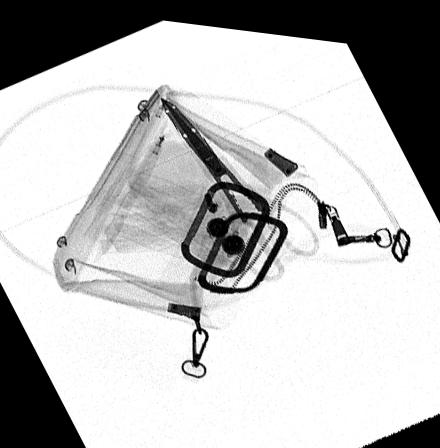Scissors: (153, 88, 321, 274)
